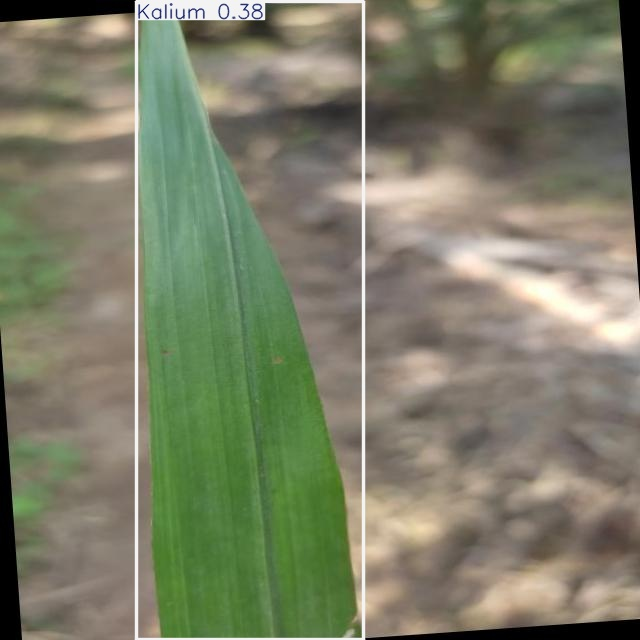Kalium: (136, 1, 363, 640)
